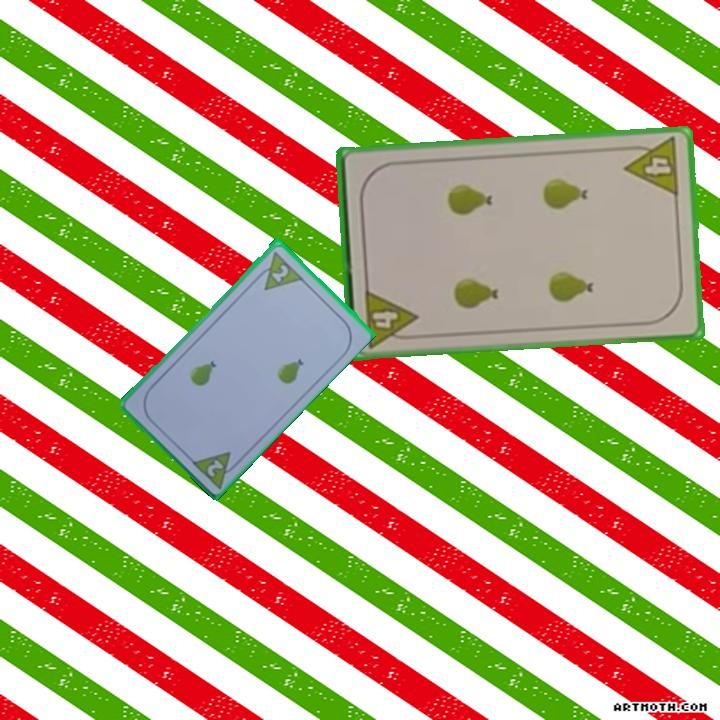2p: (187, 447, 244, 490), (251, 247, 304, 293)
4p: (620, 134, 682, 199), (361, 285, 421, 350)
